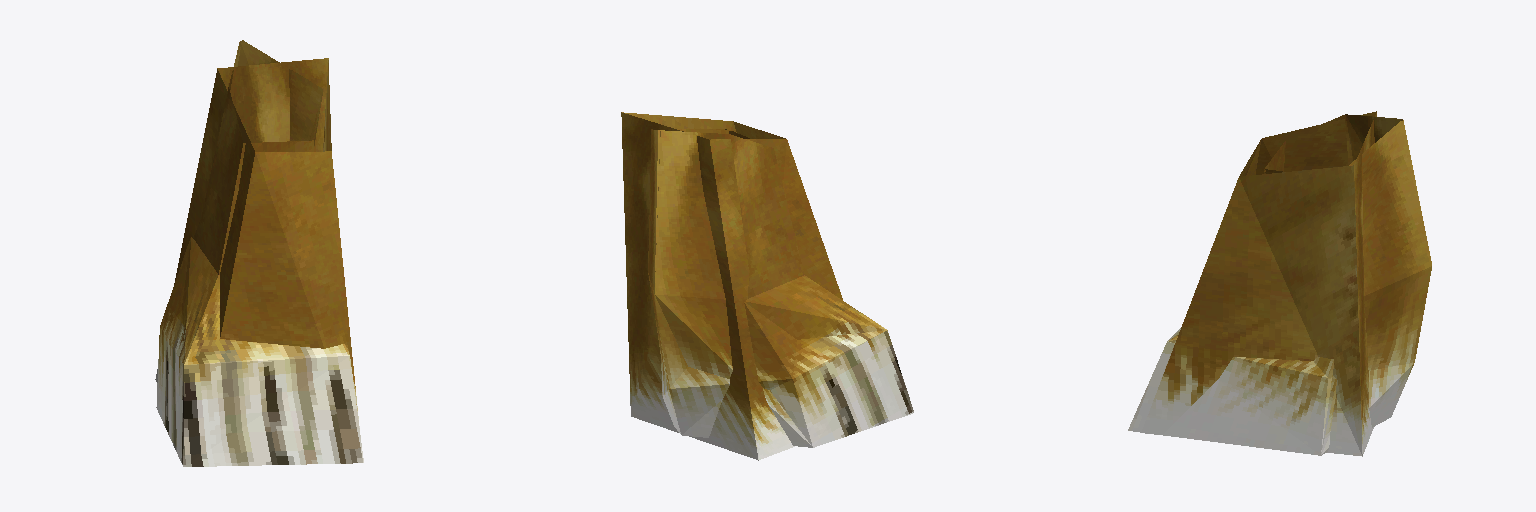
3 renders of one model, left to right at view 1: azimuth 30°, elevation 25°; view 2: azimuth 150°, elevation 25°; view 3: azimuth 270°, elevation 25°, orthographic.
Visible parts, largest first — view 1: piernaTraseraDerLeona; view 2: piernaTraseraDerLeona; view 3: piernaTraseraDerLeona.
Boxes of the visible parts, x1=… form: piernaTraseraDerLeona: x1=155, y1=40, x2=363, y2=466; piernaTraseraDerLeona: x1=621, y1=112, x2=913, y2=460; piernaTraseraDerLeona: x1=1128, y1=111, x2=1431, y2=456.
Bounding box in the file's own units: 0.4009 × 0.5566 × 0.4827.
Materials: 1 (1 with a texture image).